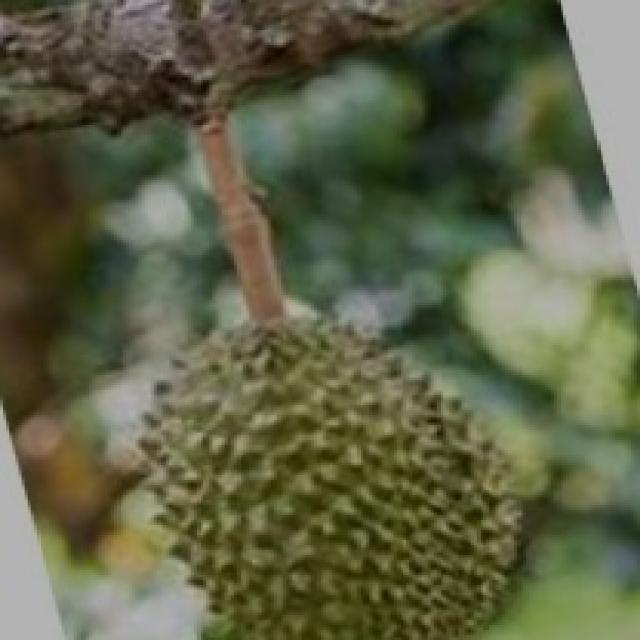fruit: (67, 267, 421, 640)
